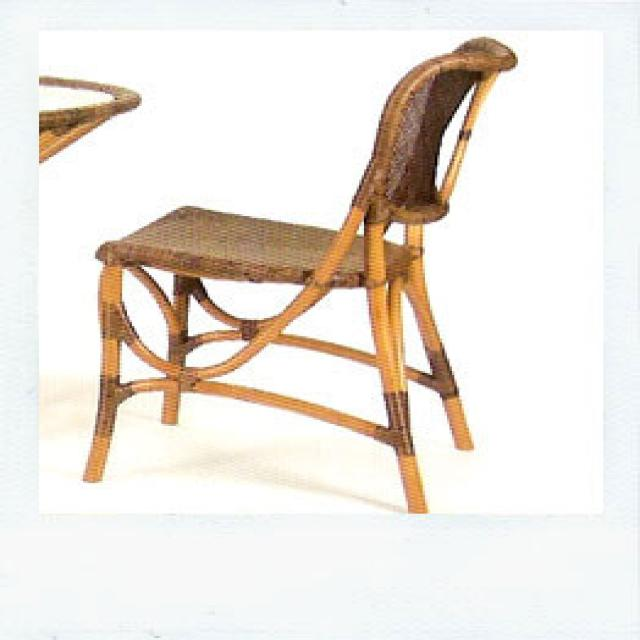chair: (80, 34, 518, 514)
